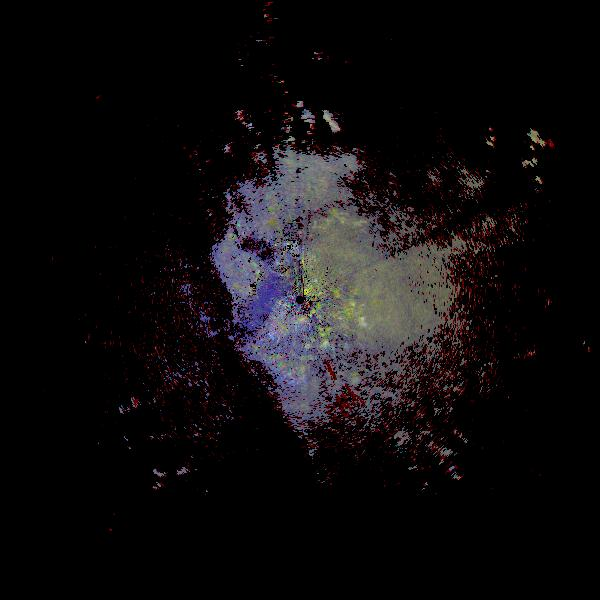roost: (340, 297, 376, 333), (289, 365, 310, 386)
